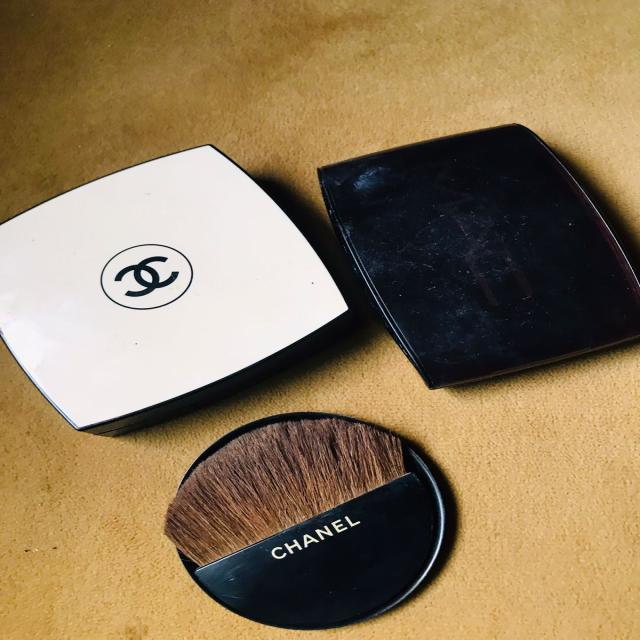brush: (158, 411, 461, 606)
